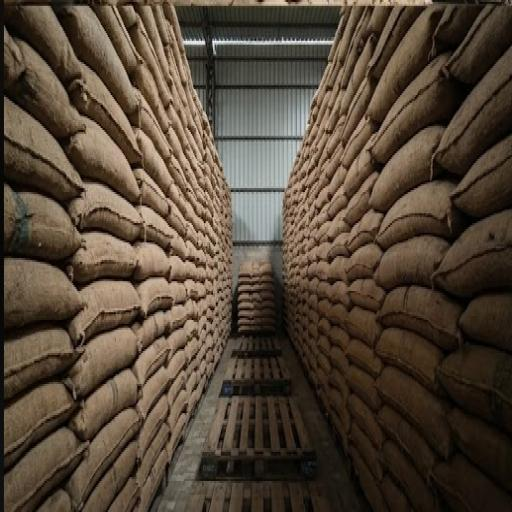Rice-bag-10: (435, 48, 511, 175), (371, 54, 458, 161), (369, 8, 441, 120), (4, 97, 82, 200), (59, 8, 136, 111), (7, 39, 84, 138), (70, 62, 140, 161), (4, 427, 87, 510), (67, 409, 137, 506), (377, 367, 452, 456), (435, 209, 511, 295), (438, 345, 511, 432), (65, 118, 139, 200), (370, 126, 443, 209), (4, 184, 81, 260), (5, 6, 80, 83), (4, 382, 74, 464), (377, 180, 463, 246), (5, 258, 83, 328), (377, 285, 461, 349), (448, 409, 511, 491), (5, 326, 75, 398), (452, 136, 511, 217), (448, 6, 511, 81), (70, 368, 136, 438), (69, 328, 136, 394), (434, 454, 511, 510), (69, 182, 142, 240), (70, 279, 140, 339), (378, 405, 436, 477), (376, 328, 442, 390), (381, 438, 437, 510), (377, 237, 449, 289), (81, 442, 135, 510), (368, 8, 421, 76), (67, 231, 136, 281), (131, 17, 169, 103), (460, 291, 511, 351), (95, 8, 136, 72), (351, 444, 387, 510), (136, 6, 168, 80), (136, 130, 169, 194), (342, 39, 372, 109), (135, 62, 167, 126), (139, 93, 168, 161), (349, 394, 384, 450), (343, 8, 369, 83), (343, 78, 373, 140), (138, 398, 167, 462), (137, 423, 169, 481), (352, 423, 382, 481), (133, 337, 168, 384), (343, 116, 375, 167), (137, 367, 168, 419), (346, 138, 373, 196), (135, 169, 168, 215), (347, 175, 377, 225), (137, 206, 172, 248), (347, 365, 380, 409), (141, 450, 165, 510), (132, 310, 168, 349), (349, 211, 383, 252), (137, 277, 172, 316), (347, 306, 380, 347), (348, 339, 382, 376), (340, 8, 362, 62), (135, 244, 168, 279), (348, 244, 381, 279), (381, 473, 412, 510), (349, 279, 384, 310), (108, 477, 139, 510), (166, 411, 186, 460), (167, 126, 188, 169), (167, 105, 188, 147), (330, 388, 350, 431), (167, 388, 186, 432), (38, 489, 71, 510), (331, 411, 347, 454), (328, 370, 349, 401), (368, 8, 391, 35), (328, 209, 348, 240), (326, 145, 343, 180), (167, 202, 184, 237), (168, 370, 184, 407), (329, 116, 344, 155), (328, 233, 349, 260), (330, 165, 346, 198), (330, 186, 347, 217), (169, 304, 190, 328), (329, 281, 349, 306), (330, 347, 349, 372), (169, 184, 185, 213), (171, 229, 187, 258), (171, 157, 184, 192), (169, 256, 188, 279), (170, 349, 185, 378), (330, 256, 347, 281), (169, 328, 187, 351), (328, 304, 346, 326), (169, 281, 186, 303), (329, 326, 348, 345), (119, 6, 135, 27), (186, 279, 201, 297), (317, 221, 331, 240), (317, 209, 329, 227), (319, 351, 329, 372), (317, 242, 329, 258), (318, 281, 330, 297), (318, 318, 330, 334), (319, 336, 330, 353), (317, 264, 329, 277), (320, 301, 330, 316)
other: (177, 8, 338, 277), (148, 329, 374, 510), (232, 246, 283, 332)
pile: (0, 0, 231, 510), (283, 8, 511, 510), (239, 260, 274, 332)
